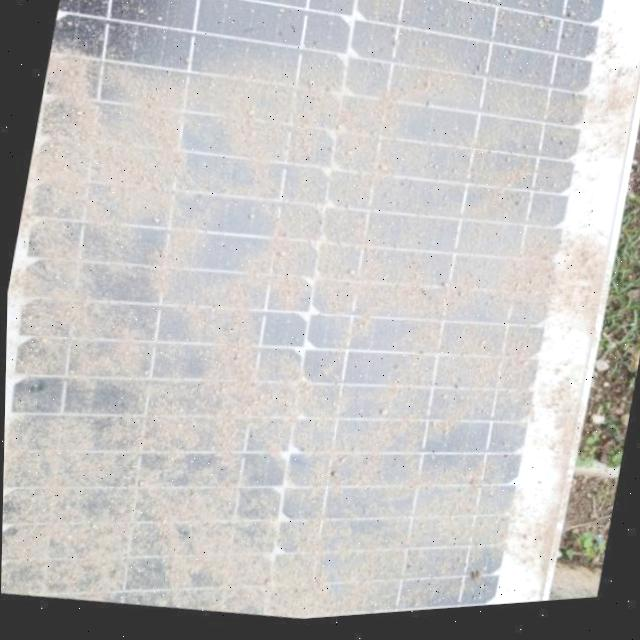Surface Contaminant: (0, 0, 640, 624)
